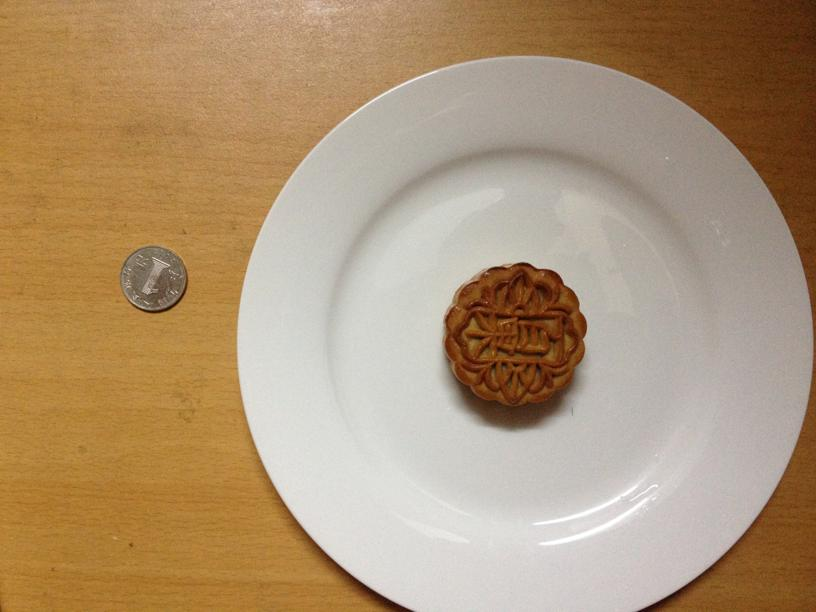coin: (120, 246, 187, 312)
mooncake: (440, 261, 586, 409)
